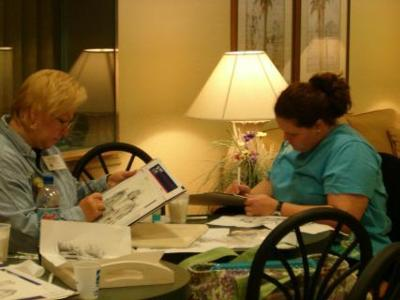person: (2, 69, 141, 251)
